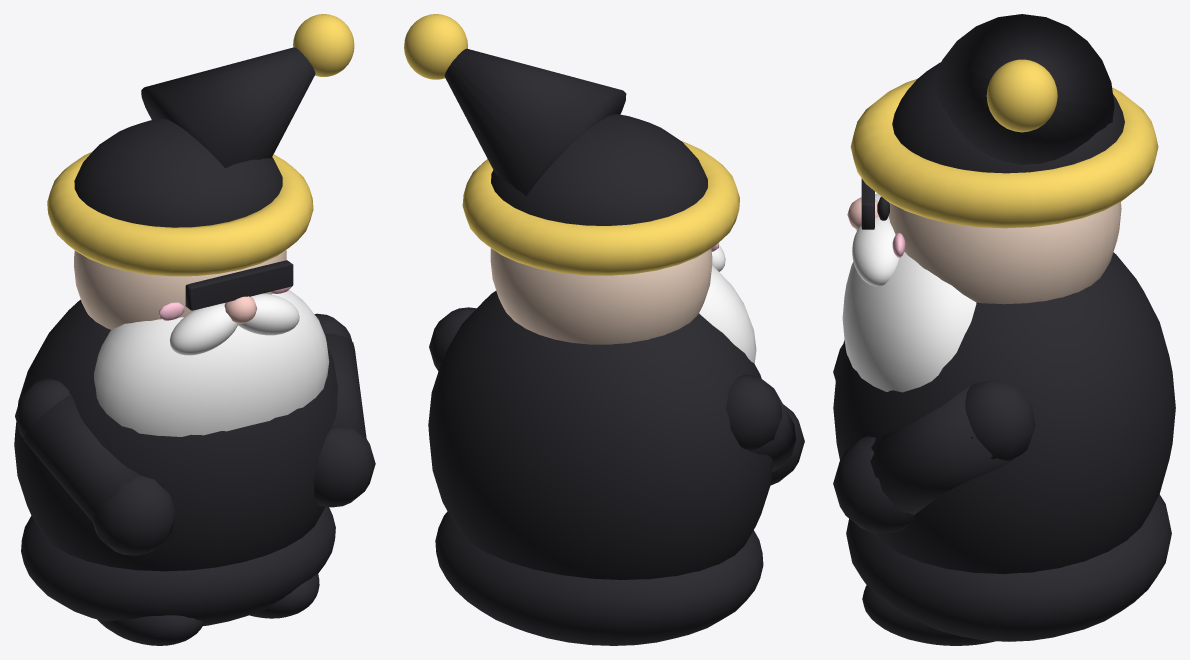
File: vip.glb
The picture shows the model from 3 angles, left to right: view 1: azimuth 30°, elevation 25°; view 2: azimuth 150°, elevation 25°; view 3: azimuth 270°, elevation 25°; orthographic projection. The views are drawn at different scales.
Parts seen in each view (by area): view 1: vip_black, vip_white, vip_gold, vip_skin, vip_nose; view 2: vip_black, vip_gold, vip_skin, vip_white; view 3: vip_black, vip_gold, vip_white, vip_skin.
Boxes of the visible parts, x1=… form: vip_black: x1=14, y1=47, x2=375, y2=645; vip_white: x1=94, y1=289, x2=329, y2=436; vip_gold: x1=47, y1=14, x2=354, y2=276; vip_skin: x1=74, y1=250, x2=286, y2=329; vip_nose: x1=224, y1=296, x2=257, y2=323; vip_black: x1=428, y1=48, x2=804, y2=645; vip_gold: x1=404, y1=14, x2=739, y2=275; vip_skin: x1=490, y1=248, x2=712, y2=344; vip_white: x1=699, y1=244, x2=756, y2=363; vip_black: x1=833, y1=14, x2=1175, y2=645; vip_gold: x1=850, y1=59, x2=1158, y2=228; vip_white: x1=842, y1=193, x2=976, y2=392; vip_skin: x1=888, y1=202, x2=1121, y2=304.
Bounding box in the file's own units: 2.08 × 3.16 × 1.56.
